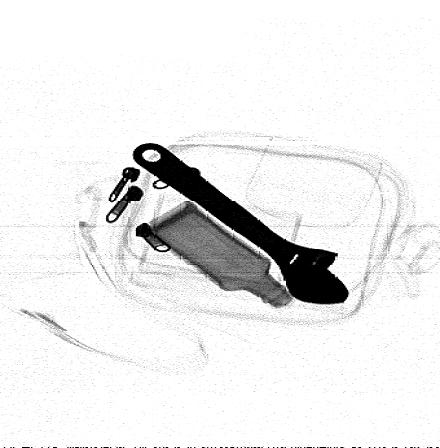Wrench: (131, 141, 352, 306)
